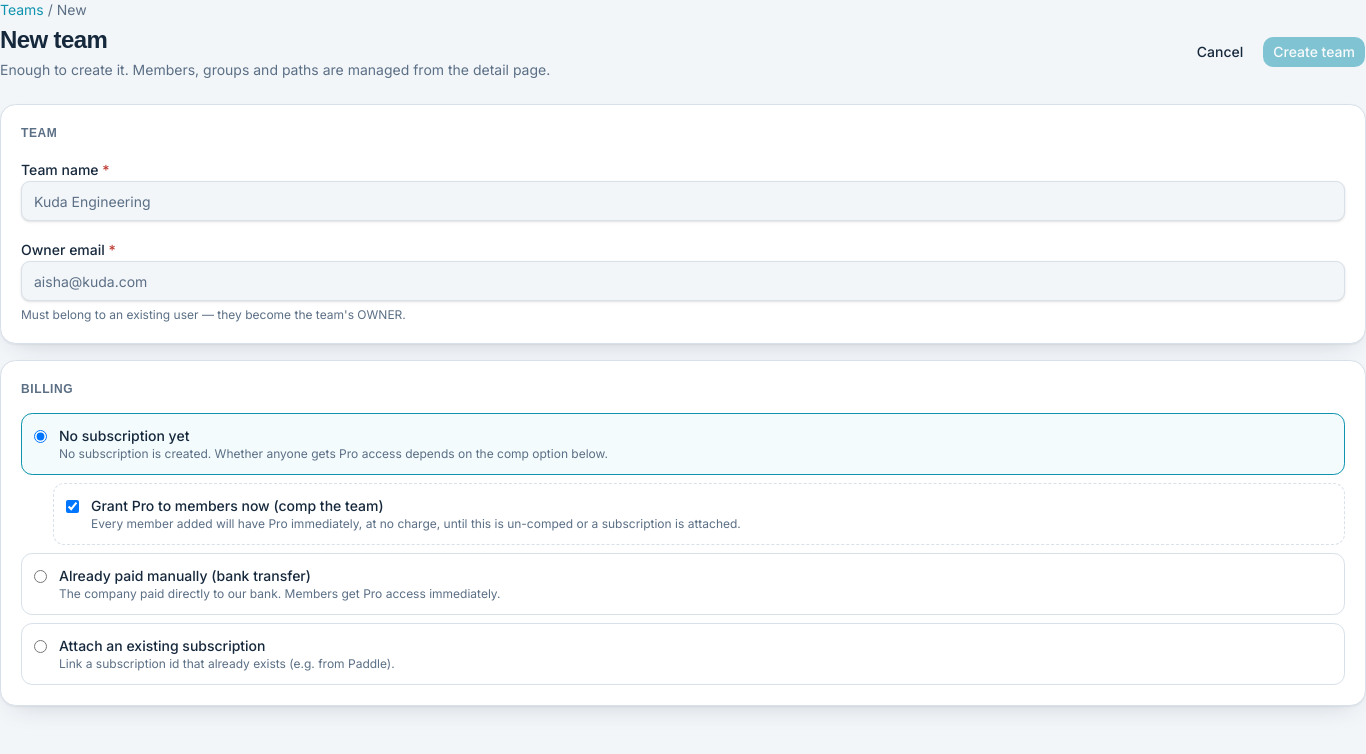
NewTeamClient › comp checkbox on the "no subscription yet" branch › is absent on the "paid manually" branch
Click the radio button labelled "paid manually": (40, 576) [34,570,47,583]
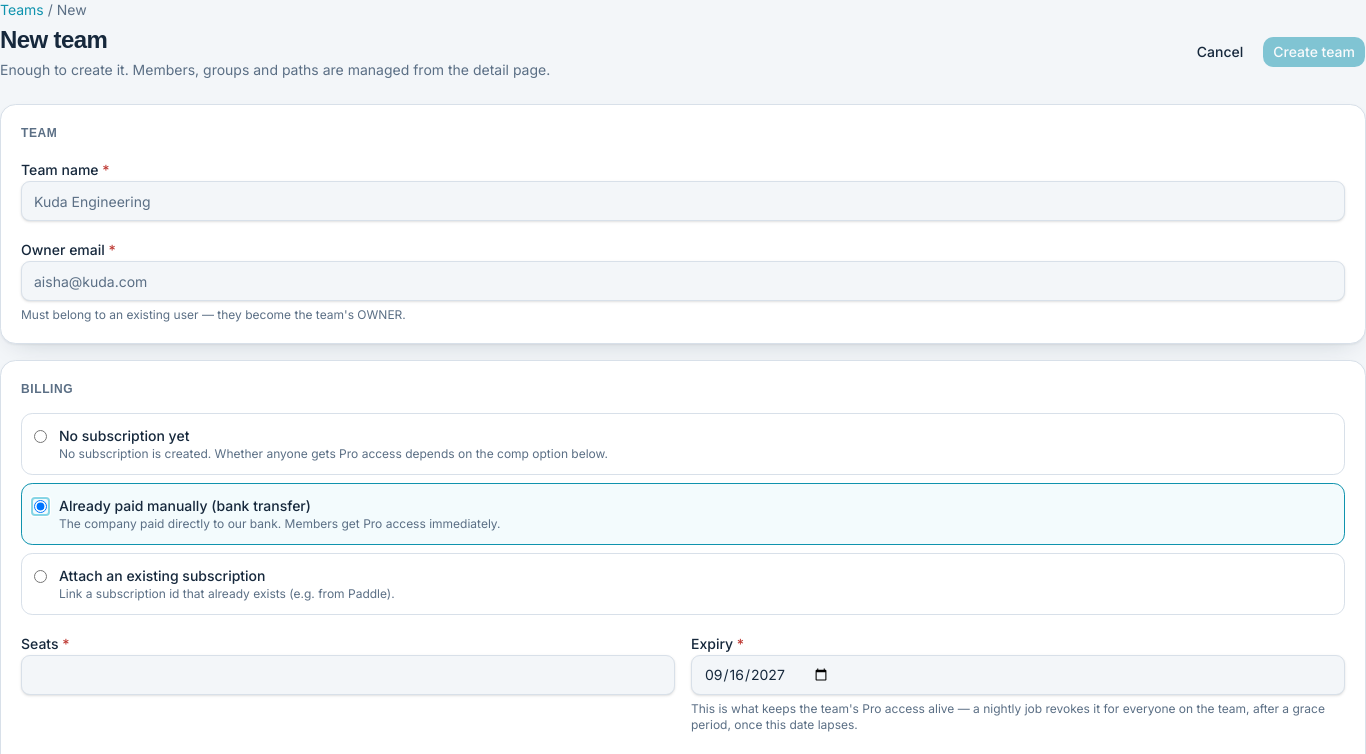
Expected: the text "Grant Pro" is gone
